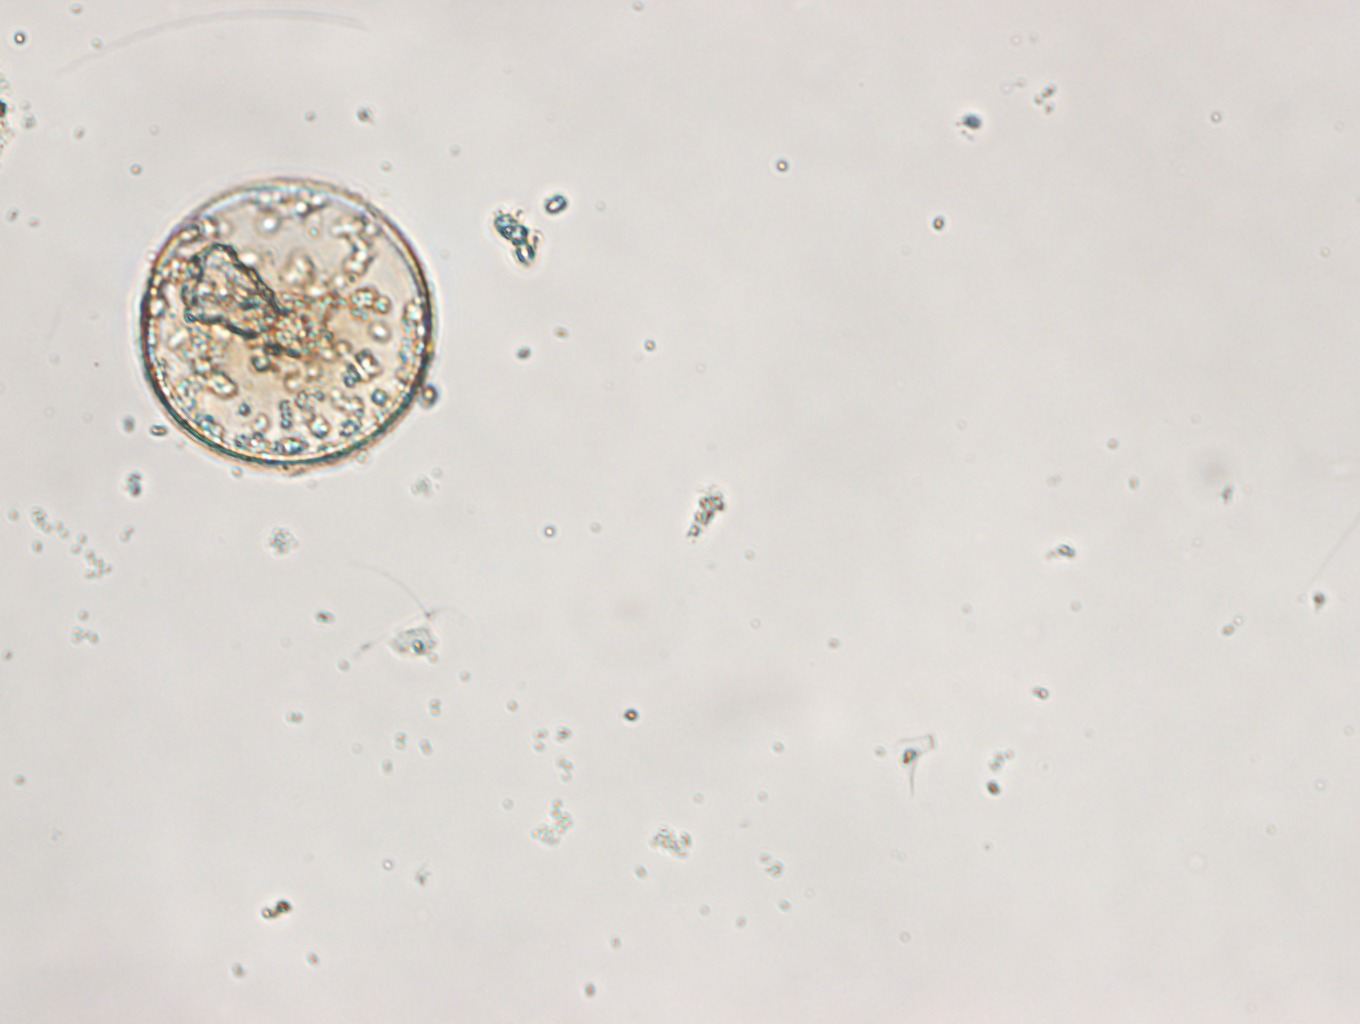coscinodiscus: (131, 174, 433, 477)
